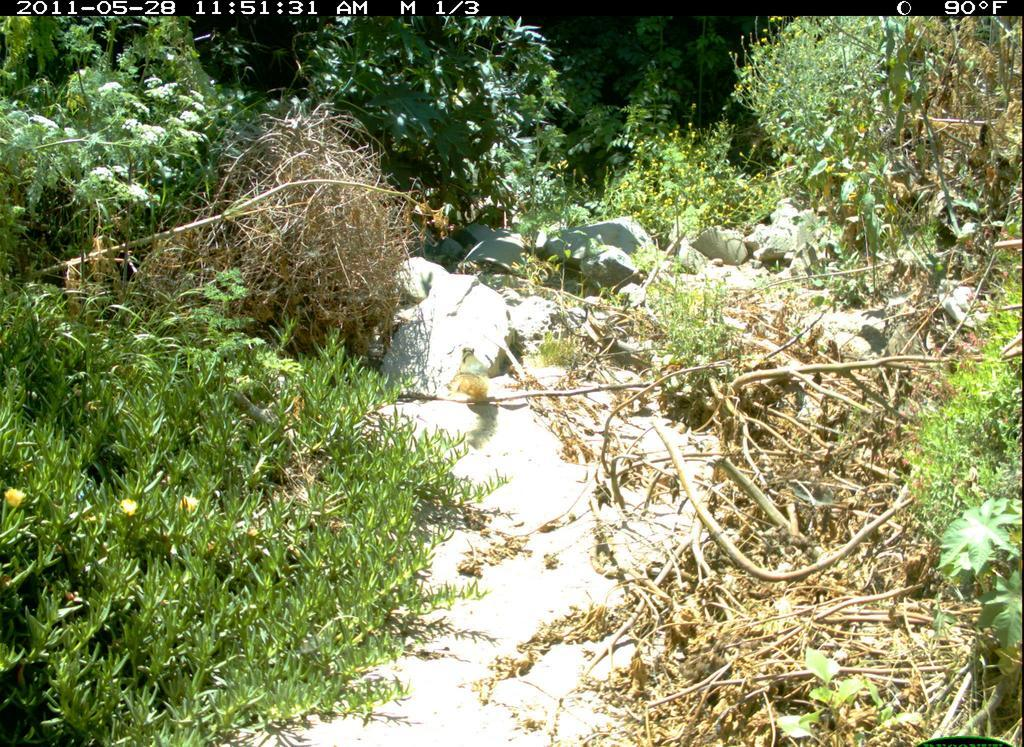squirrel: (446, 341, 491, 405)
